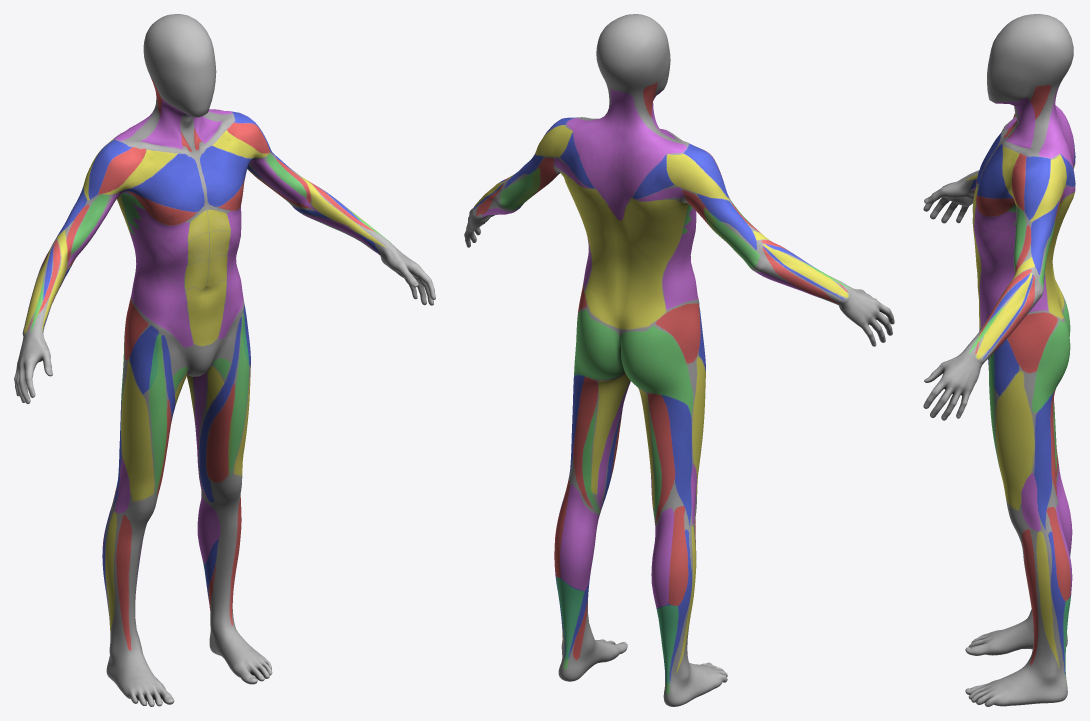
The model's file is human.glb.
3 renders of one model, left to right at view 1: azimuth 30°, elevation 25°; view 2: azimuth 150°, elevation 25°; view 3: azimuth 270°, elevation 25°, orthographic. The views are drawn at different scales.
Visible parts, largest first — view 1: skinnyHuman_low; view 2: skinnyHuman_low; view 3: skinnyHuman_low.
Boxes of the visible parts, x1=… form: skinnyHuman_low: x1=14, y1=14, x2=435, y2=706; skinnyHuman_low: x1=464, y1=14, x2=894, y2=706; skinnyHuman_low: x1=923, y1=14, x2=1075, y2=706.
Size of the model in its own units: 1.19 by 1.81 by 0.379.
Materials: 1 (1 with a texture image).
